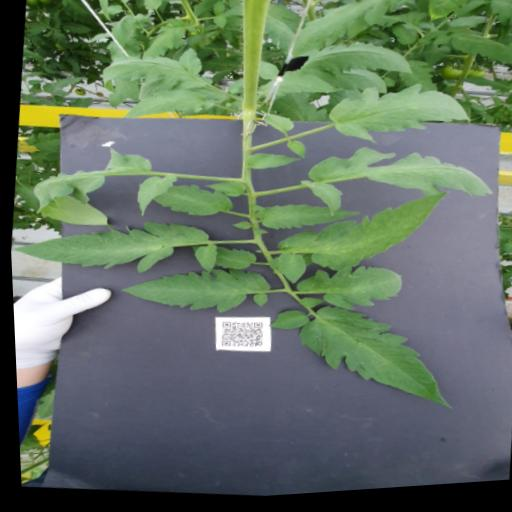Healthy: (287, 300, 458, 423), (8, 204, 217, 288), (302, 138, 494, 213), (321, 77, 473, 159), (25, 138, 154, 234), (114, 257, 271, 325), (97, 40, 215, 110), (286, 0, 399, 70), (298, 37, 414, 90), (273, 62, 389, 110), (252, 199, 359, 242), (121, 84, 214, 127), (148, 180, 233, 223), (446, 34, 512, 80), (139, 15, 200, 64), (185, 243, 254, 276), (132, 173, 176, 221), (294, 181, 342, 222), (243, 152, 299, 177), (271, 254, 305, 288), (264, 310, 307, 336), (201, 180, 245, 202), (261, 114, 293, 138), (284, 142, 305, 163), (296, 299, 321, 313)
